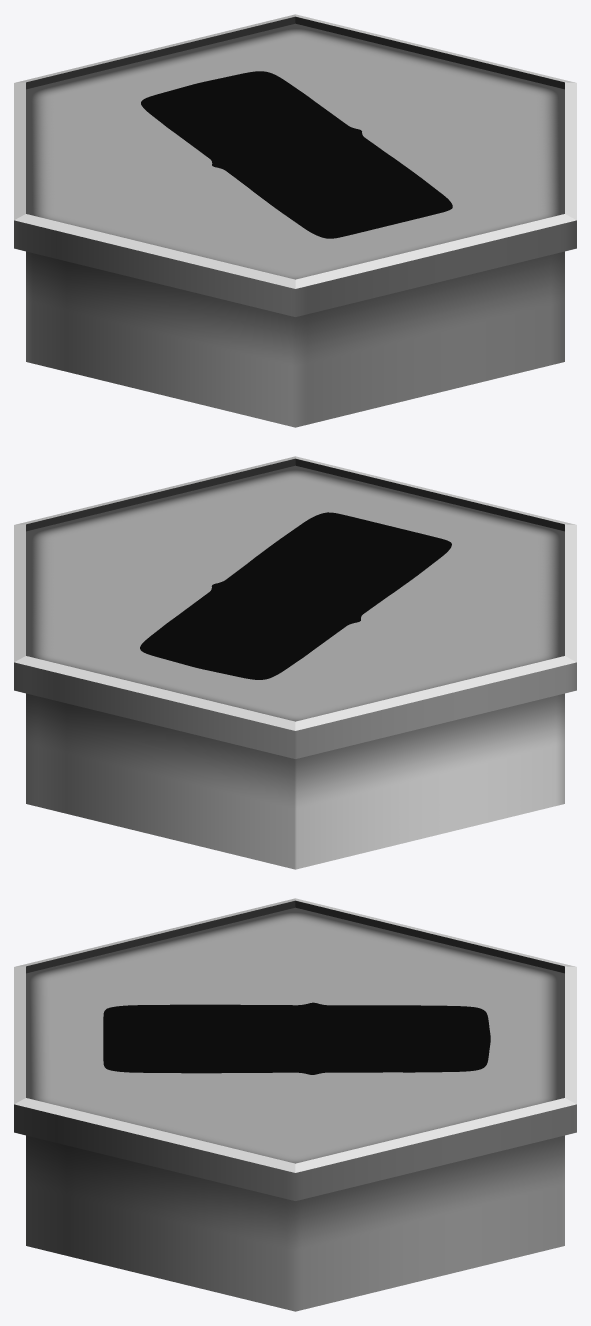
File: table.FBX
3 views of the same model, one above another, from view 1: azimuth 30°, elevation 25°; view 2: azimuth 150°, elevation 25°; view 3: azimuth 270°, elevation 25° (orthographic).
Parts seen in each view (by area): view 1: 002; view 2: 002; view 3: 002.
Boxes of the visible parts, x1=… form: 002: x1=14, y1=14, x2=576, y2=427; 002: x1=14, y1=456, x2=576, y2=869; 002: x1=14, y1=898, x2=576, y2=1311.
Size of the model in its own units: 7.7 by 1.93 by 6.67.
